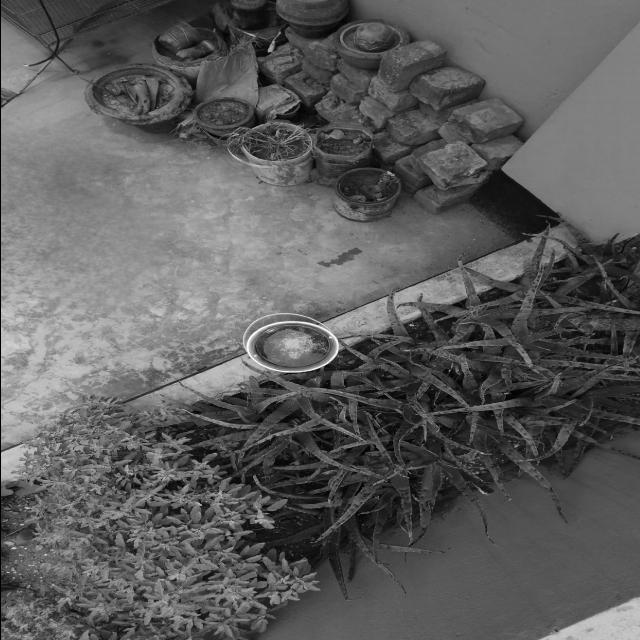Breeding Place: (144, 237, 640, 579), (62, 0, 524, 217), (0, 397, 311, 640), (216, 312, 342, 379)
